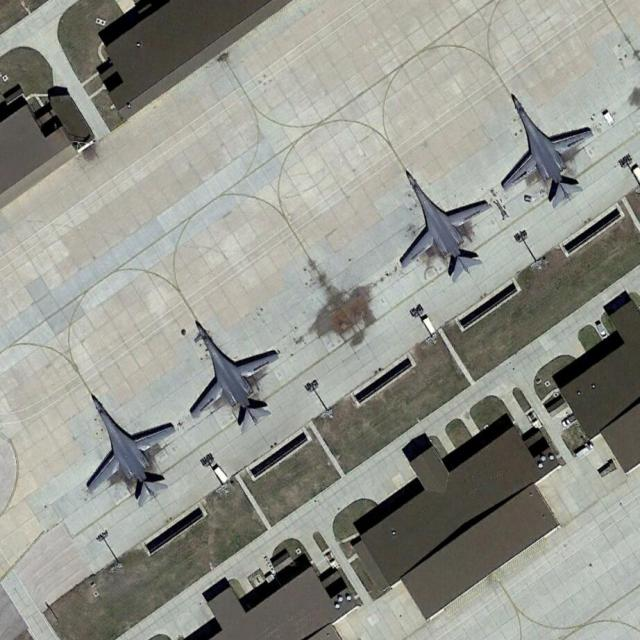fighter jet: (495, 90, 599, 206), (81, 390, 181, 502), (186, 320, 282, 429), (395, 172, 489, 277)
